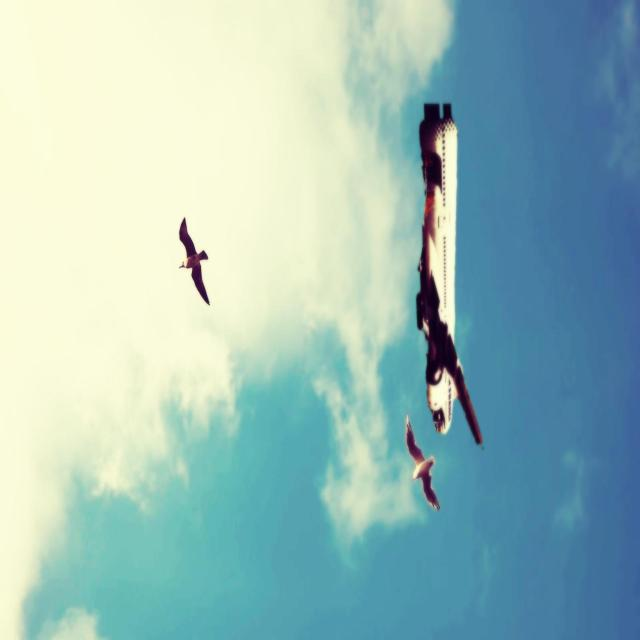airplane: (415, 100, 483, 446)
